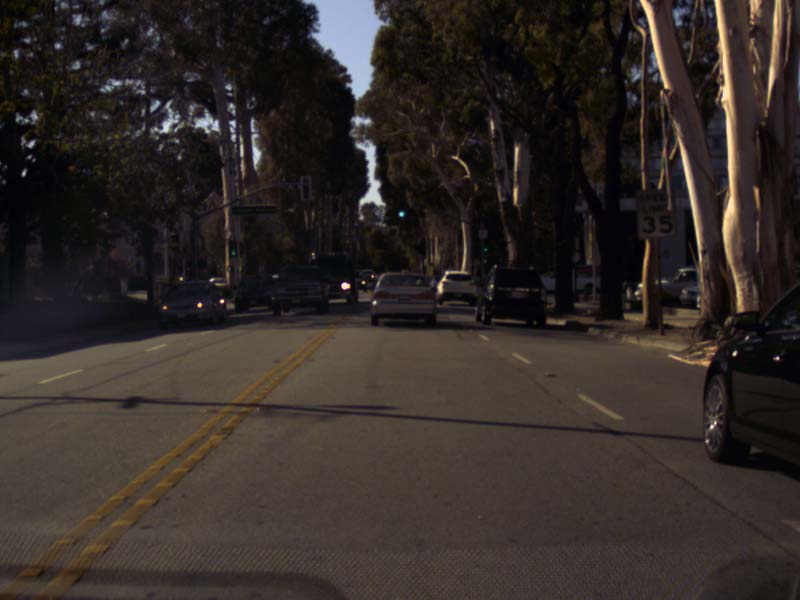Green: (229, 241, 236, 257), (398, 202, 404, 217), (482, 238, 488, 252)
